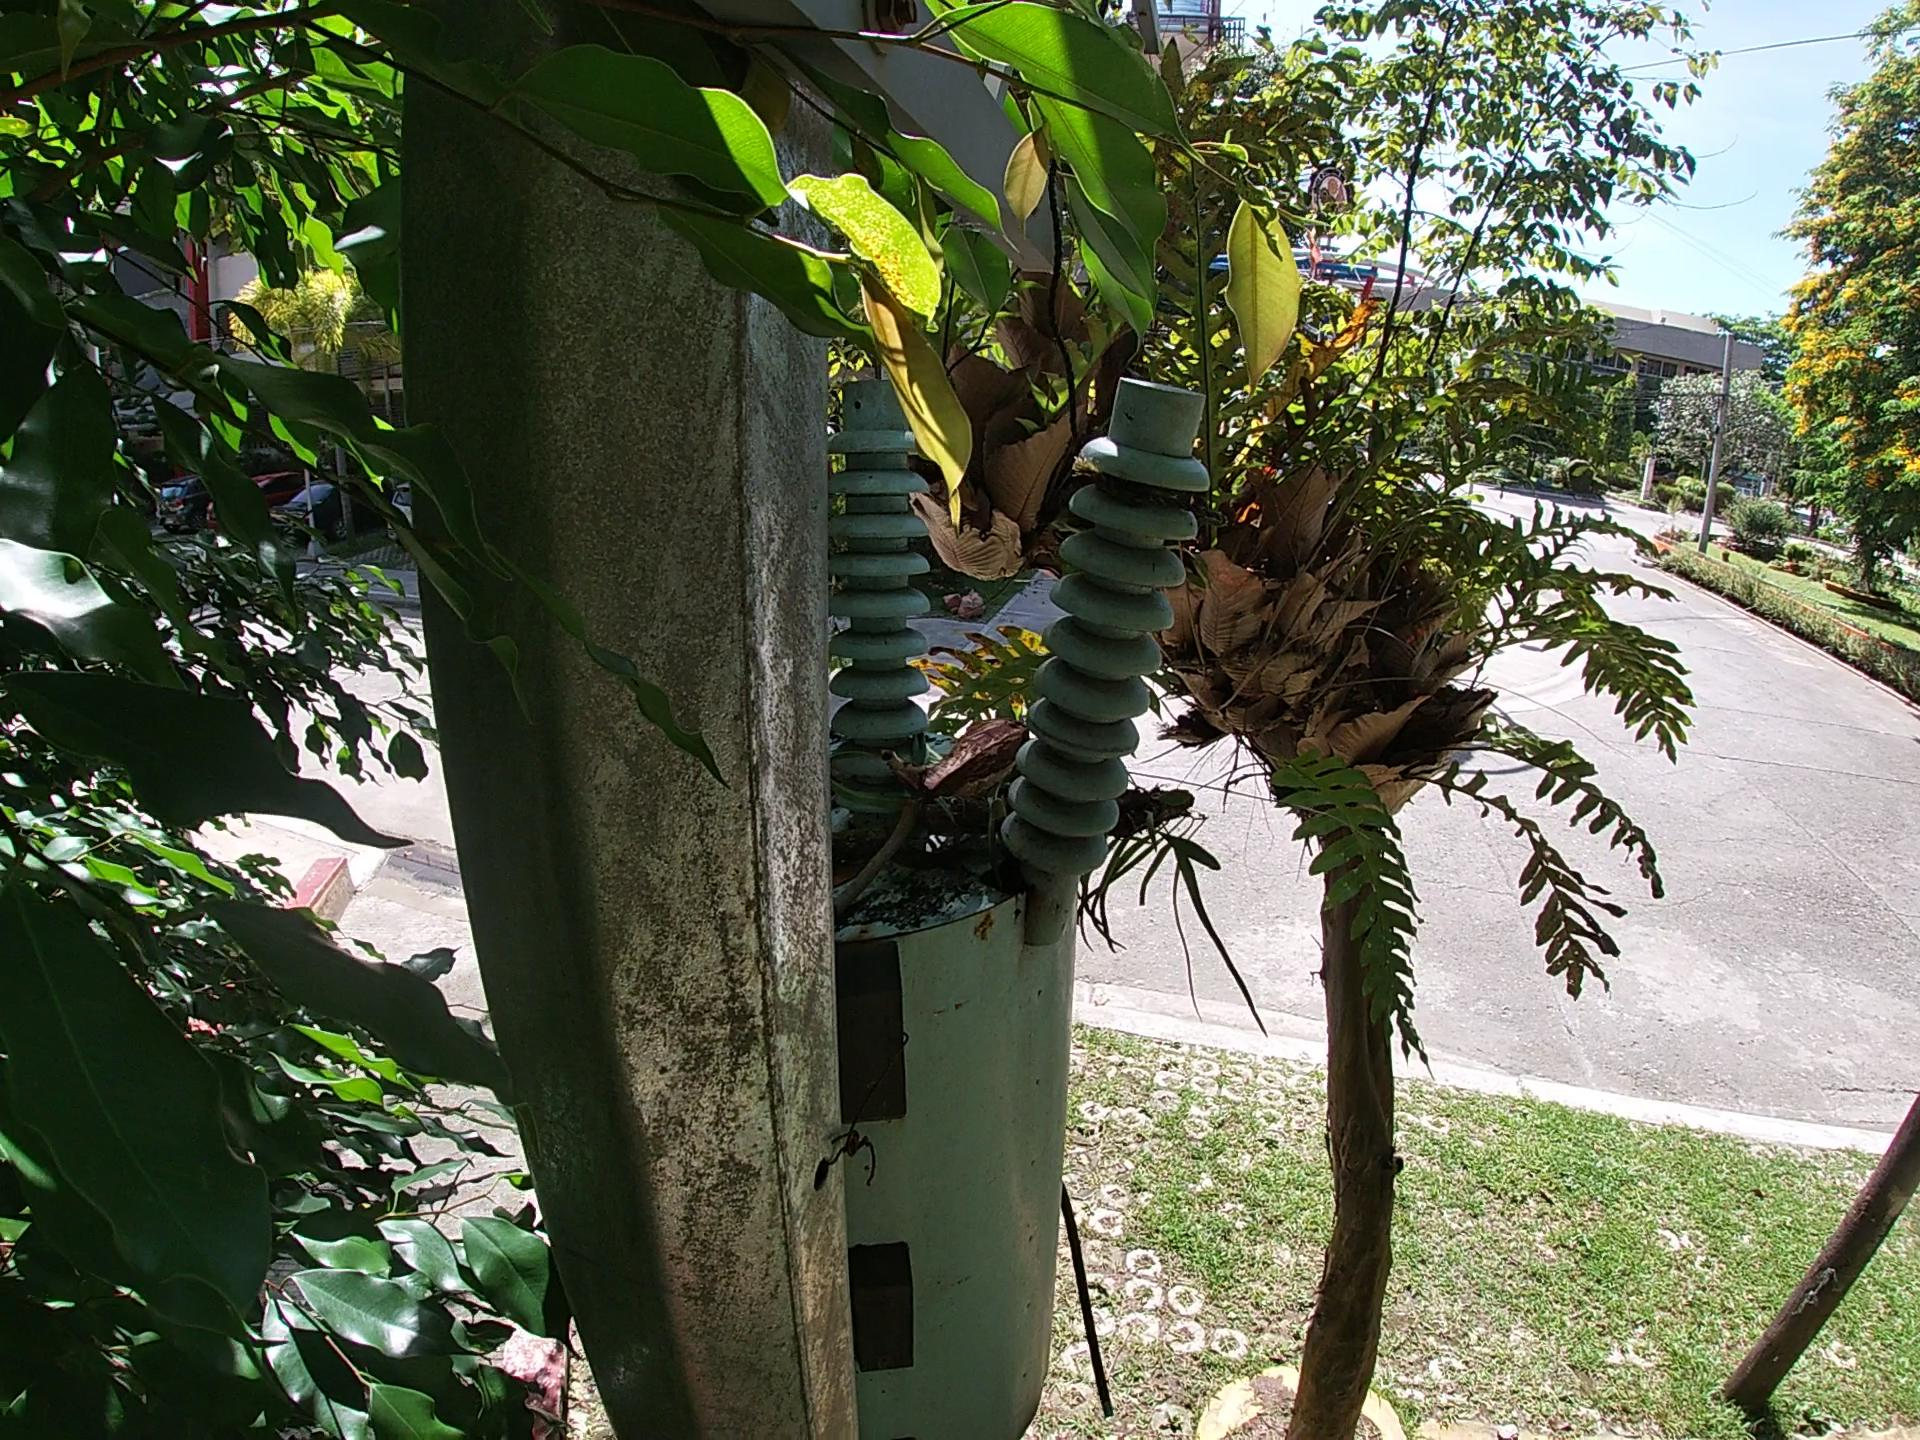branch with leaves: (1002, 731, 1332, 985)
mahogany fruit: (863, 682, 1025, 806)
tree branch: (872, 664, 958, 933)
